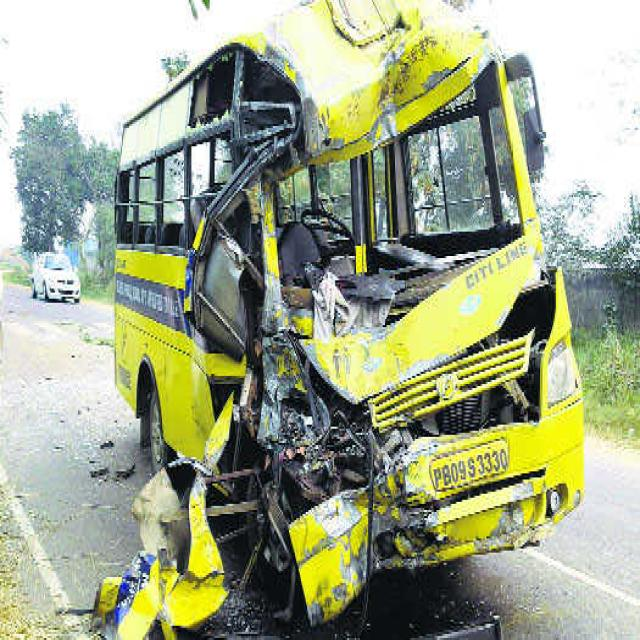accident: (94, 0, 584, 640)
car: (33, 252, 84, 307)
